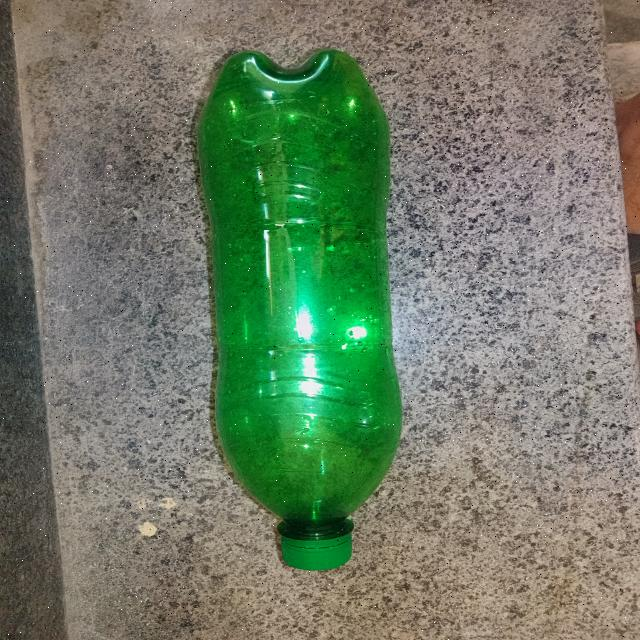bottle: (170, 34, 404, 580)
cap: (262, 528, 363, 576)
